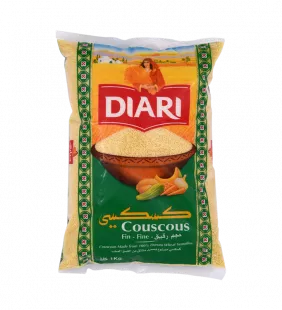DIARI: (45, 20, 236, 291)
